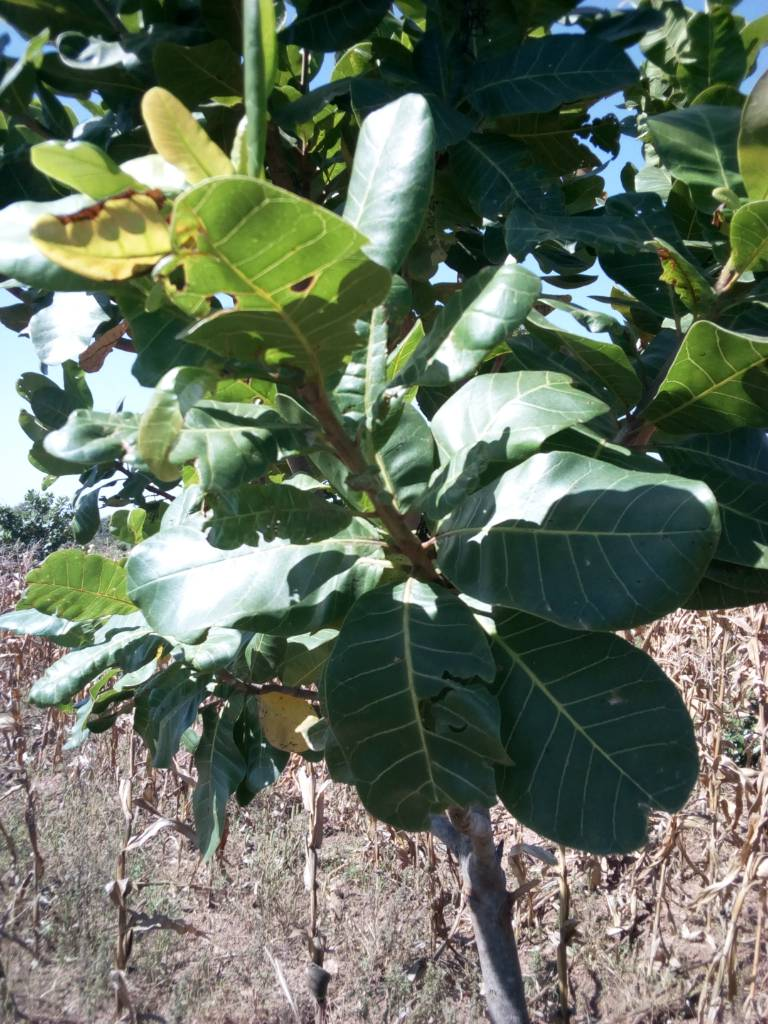Anoplocnemis curvipes: (169, 192, 366, 386), (344, 610, 499, 830)
